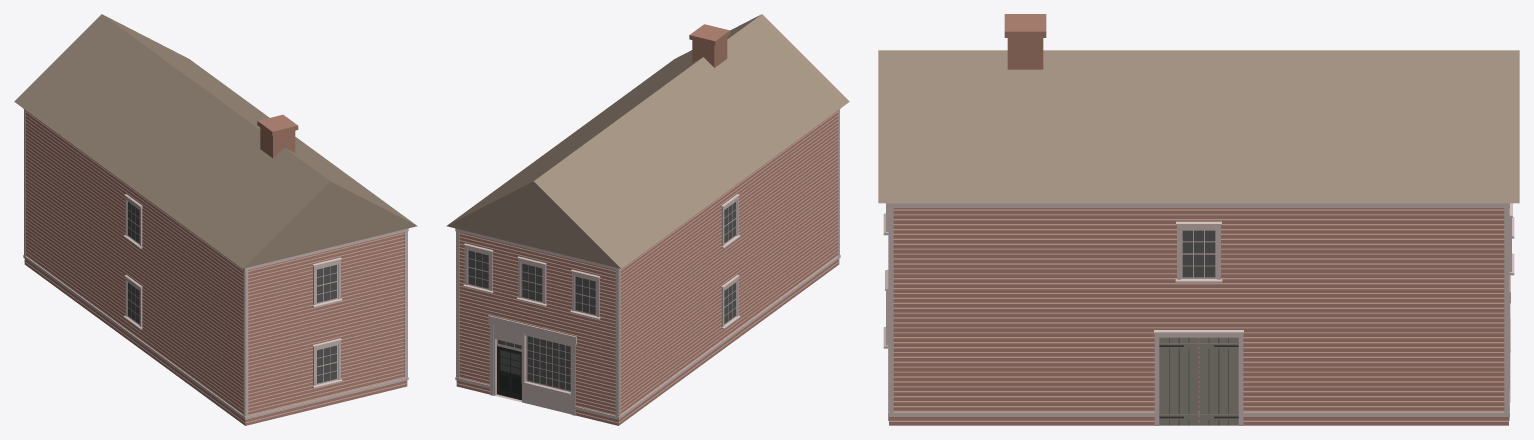
The model's file is recon_1835_core_c3_030__inferred_1835.glb.
The picture shows the model from 3 angles, left to right: view 1: azimuth 30°, elevation 25°; view 2: azimuth 150°, elevation 25°; view 3: azimuth 270°, elevation 25°; orthographic projection. The views are drawn at different scales.
Parts seen in each view (by area): view 1: recon_1835_core_c3_030__inferred_1835; view 2: recon_1835_core_c3_030__inferred_1835; view 3: recon_1835_core_c3_030__inferred_1835.
Boxes of the visible parts, x1=… form: recon_1835_core_c3_030__inferred_1835: x1=14, y1=14, x2=417, y2=425; recon_1835_core_c3_030__inferred_1835: x1=446, y1=14, x2=849, y2=425; recon_1835_core_c3_030__inferred_1835: x1=878, y1=14, x2=1519, y2=425.
Bounding box in the file's own units: 6.65 × 8.97 × 15.01.
